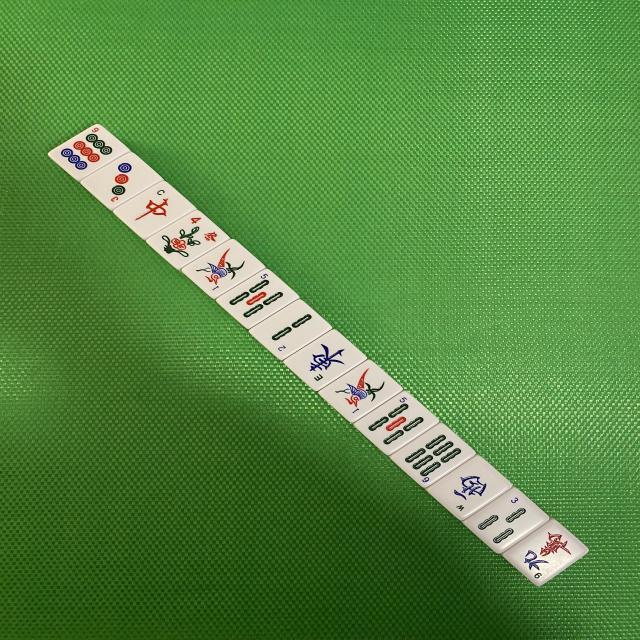bs4: (146, 208, 226, 272)
hdr: (112, 179, 188, 243)
hwe: (282, 328, 363, 393)
hww: (427, 451, 511, 521)
sb1: (318, 357, 398, 425), (181, 236, 258, 302)
sb2: (250, 296, 332, 373)
sb3: (467, 486, 545, 556)
sb5: (354, 389, 436, 455), (218, 268, 294, 333)
sb6: (396, 423, 469, 490)
sb9: (354, 389, 436, 455)
sc9: (503, 517, 588, 590)
sd3: (80, 150, 162, 212)
sd9: (47, 124, 128, 182)
